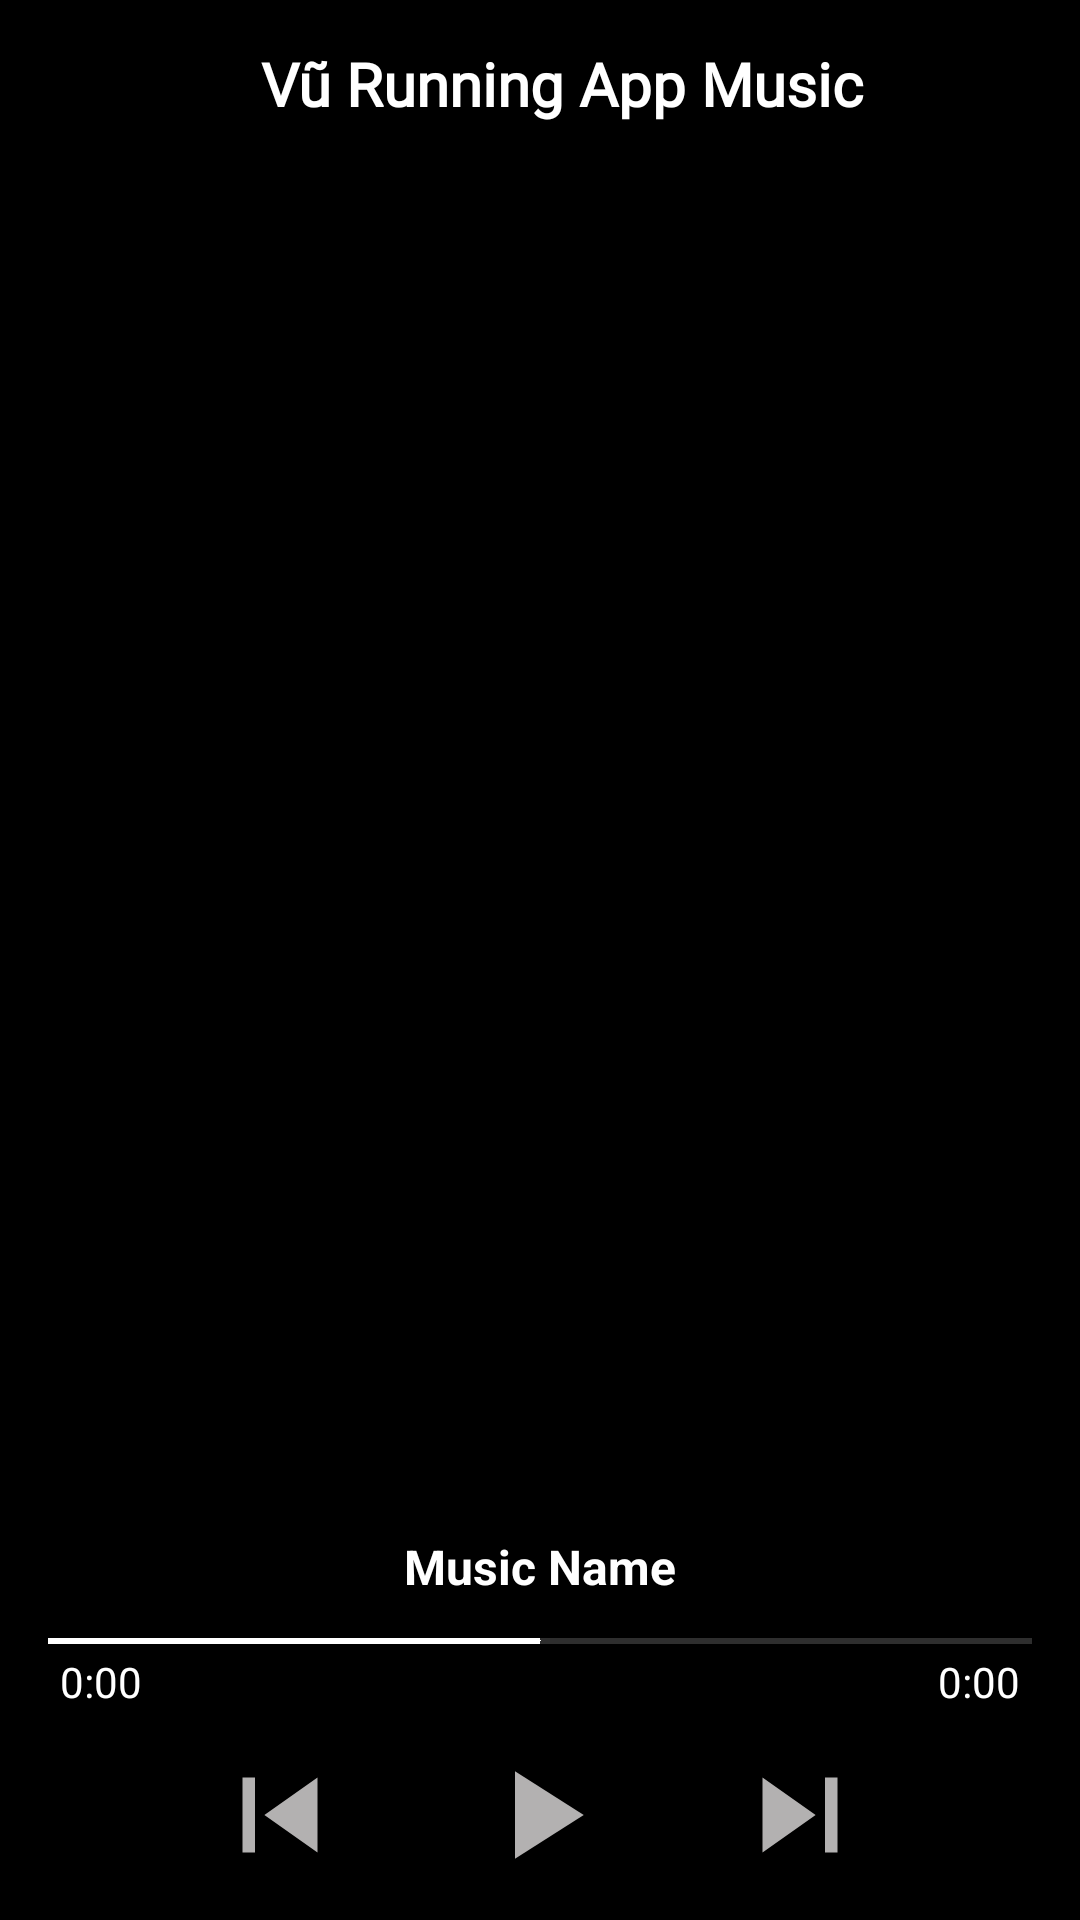

Screen size 1080w x 1920h. Icon name, then its center in pixels as point (x, y):
play: point (549, 1815)
skip next: point (800, 1815)
skip previous: point (280, 1815)
